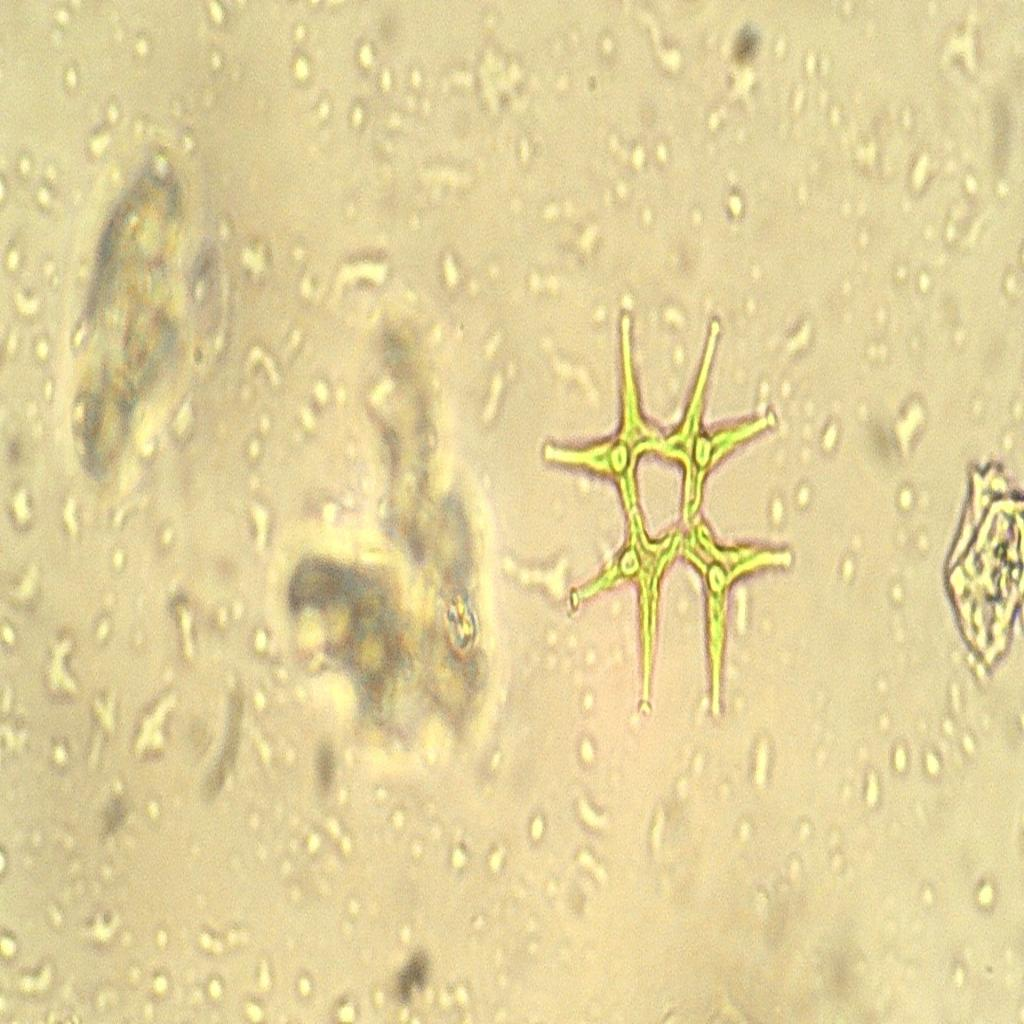Pediastrum_75FI: (538, 293, 808, 733)
